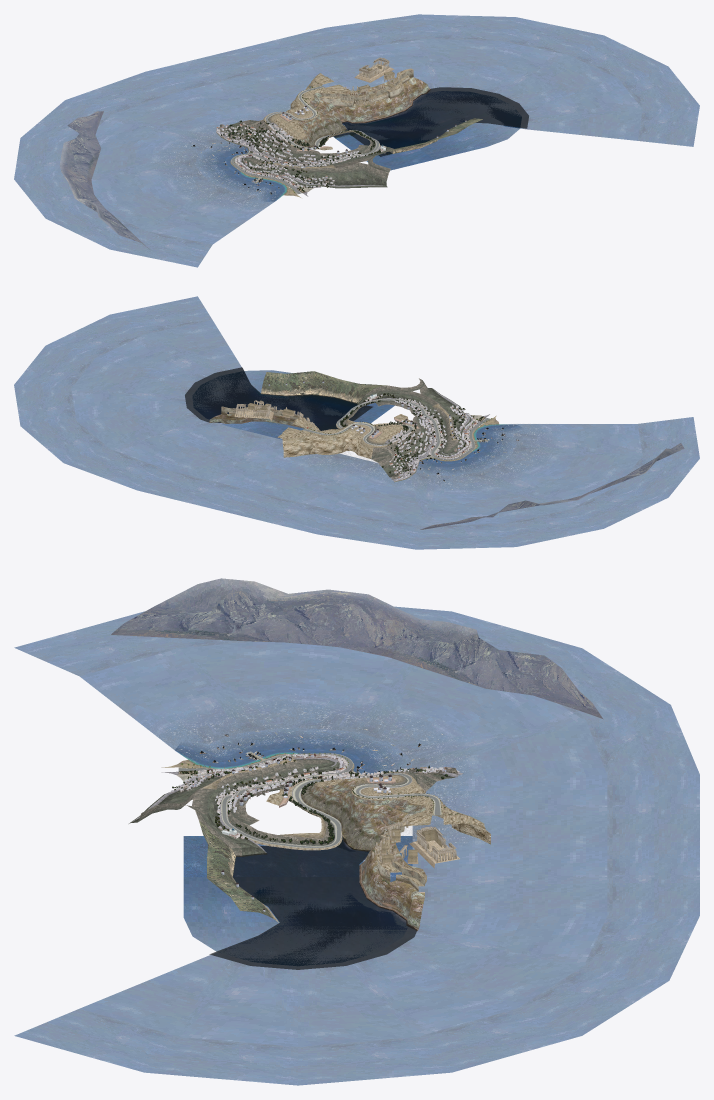
The model's file is stage-cape.glb.
3 views of the same model, one above another, from view 1: azimuth 30°, elevation 25°; view 2: azimuth 150°, elevation 25°; view 3: azimuth 270°, elevation 25° (orthographic). The views are drawn at different scales.
Visible parts, largest first — view 1: part 6 chunk 5,-3, part 6 chunk -3,-3, part 6 chunk 4,-3, part 6 chunk 5,-2, part 1 chunk 3,-4, part 1 chunk -4,-3, part 6 chunk -1,-2, part 1 chunk 0,-1, part 6 chunk 3,-2, part 1 chunk 1,-3, part 6 chunk -1,-3, part 1 chunk 0,-3 (+8 smaller); view 2: part 6 chunk 5,-3, part 6 chunk -3,-3, part 6 chunk 4,-3, part 6 chunk -1,-2, part 1 chunk 4,-1, part 1 chunk 2,-4, part 6 chunk 5,-2, part 6 chunk -1,-3, part 6 chunk 3,-2, part 1 chunk 1,-3, part 1 chunk -4,-3, part 1 chunk 0,-1 (+7 smaller); view 3: part 6 chunk 5,-3, part 6 chunk -3,-3, part 1 chunk -4,-3, part 6 chunk 4,-3, part 6 chunk 5,-2, part 6 chunk -1,-2, part 1 chunk 3,-4, part 6 chunk 3,-2, part 6 chunk -1,-3, part 1 chunk 1,-3, part 1 chunk 4,-1, part 1 chunk 2,-2 (+6 smaller).
Part boxes in pixels (x1,y1,x2,y2): part 6 chunk 5,-3: [145, 14, 699, 146]; part 6 chunk -3,-3: [14, 72, 274, 267]; part 6 chunk 4,-3: [334, 87, 528, 156]; part 6 chunk 5,-2: [391, 91, 520, 159]; part 1 chunk 3,-4: [302, 69, 429, 123]; part 1 chunk -4,-3: [59, 111, 149, 249]; part 6 chunk -1,-2: [195, 141, 284, 202]; part 1 chunk 0,-1: [240, 157, 388, 192]; part 6 chunk 3,-2: [333, 119, 433, 170]; part 1 chunk 1,-3: [237, 113, 336, 158]; part 6 chunk -1,-3: [162, 108, 289, 213]; part 1 chunk 0,-3: [216, 122, 339, 165]; part 6 chunk 5,-3: [14, 296, 392, 534]; part 6 chunk -3,-3: [318, 417, 699, 549]; part 6 chunk 4,-3: [185, 367, 372, 430]; part 6 chunk -1,-2: [416, 424, 525, 476]; part 1 chunk 4,-1: [261, 371, 387, 403]; part 1 chunk 2,-4: [278, 423, 373, 458]; part 6 chunk 5,-2: [192, 370, 313, 438]; part 6 chunk -1,-3: [303, 424, 548, 487]; part 6 chunk 3,-2: [280, 398, 394, 439]; part 1 chunk 1,-3: [368, 408, 421, 468]; part 1 chunk -4,-3: [420, 443, 684, 529]; part 1 chunk 0,-1: [419, 383, 484, 457]; part 6 chunk 5,-3: [14, 774, 699, 1085]; part 6 chunk -3,-3: [14, 606, 699, 776]; part 1 chunk -4,-3: [111, 578, 603, 719]; part 6 chunk 4,-3: [209, 835, 417, 969]; part 6 chunk 5,-2: [183, 877, 407, 964]; part 6 chunk -1,-2: [175, 727, 411, 774]; part 1 chunk 3,-4: [356, 796, 433, 929]; part 6 chunk 3,-2: [183, 836, 412, 876]; part 6 chunk -1,-3: [158, 694, 484, 845]; part 1 chunk 1,-3: [250, 772, 445, 833]; part 1 chunk 4,-1: [199, 821, 278, 922]; part 1 chunk 2,-2: [227, 797, 342, 850].
Bounding box in the file's own units: 5220 × 277 × 3107.
Materials: 126 (123 with a texture image).
